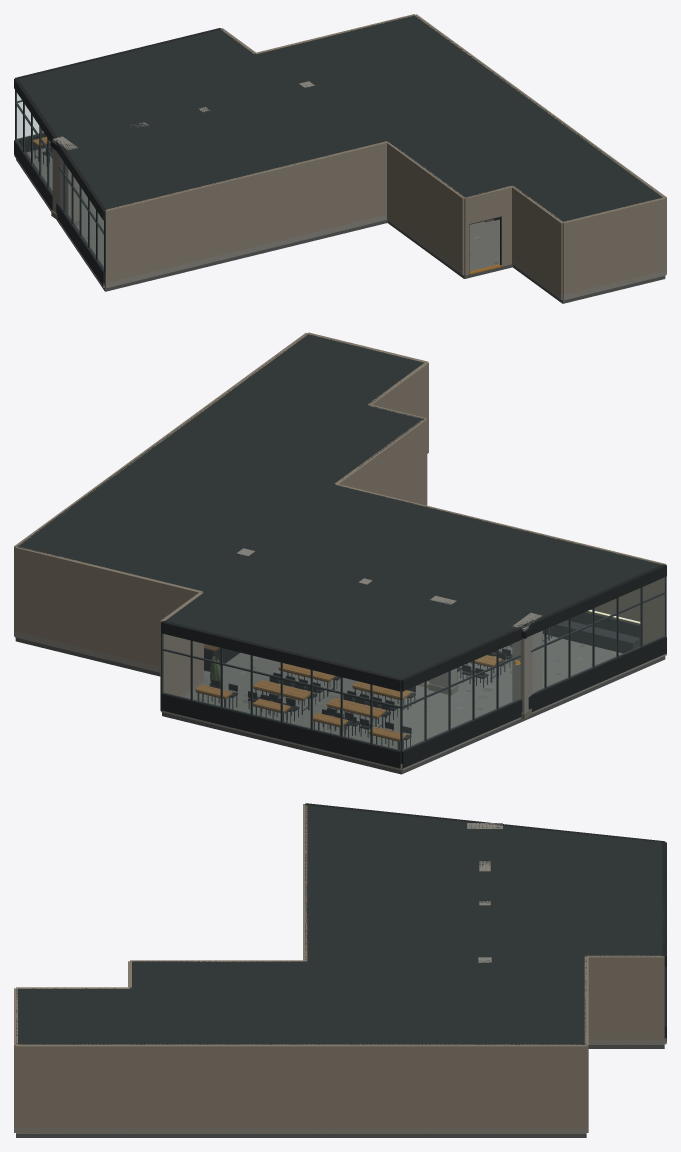
File: MEGASPOT_2F.glb
3 renders of one model, top to bottom at view 1: azimuth 30°, elevation 25°; view 2: azimuth 150°, elevation 25°; view 3: azimuth 270°, elevation 25°, orthographic. The views are drawn at different scales.
Visible parts, largest first — view 1: ceiling / surface, wallsFull / wall, floor / surface (×2), wallsFull / dark, wallBase / concrete, wallsFull / glass, wallsFull / steel, columns / concrete; view 2: ceiling / surface, wallsFull / wall, wallsFull / glass, wallsFull / dark, floor / surface (×3), wallsFull / steel, furniture / wood, columns / concrete, furniture / chair, furniture / leather, wallBase / concrete, furniture / steel (+1 smaller); view 3: ceiling / surface, wallsFull / wall, wallBase / concrete, floor / surface, wallsFull / dark.
Part boxes in pixels (x1,y1,x2,y2): ceiling / surface: (18, 15, 662, 222); wallsFull / wall: (104, 14, 666, 299); floor / surface (×2): (16, 149, 665, 303); wallsFull / dark: (14, 28, 221, 286); wallBase / concrete: (14, 146, 666, 300); wallsFull / glass: (16, 92, 103, 269); wallsFull / steel: (15, 90, 105, 273); columns / concrete: (52, 81, 314, 220); ceiling / surface: (17, 333, 661, 679); wallsFull / wall: (14, 332, 666, 706); wallsFull / glass: (163, 578, 663, 749); wallsFull / dark: (161, 564, 666, 768); floor / surface (×3): (15, 634, 665, 774); wallsFull / steel: (161, 576, 666, 752); furniture / wood: (195, 644, 512, 740); columns / concrete: (237, 548, 542, 712); furniture / chair: (211, 626, 553, 740); furniture / leather: (543, 611, 640, 653); wallBase / concrete: (14, 447, 666, 770); furniture / steel: (197, 627, 551, 749); ceiling / surface: (16, 804, 664, 1045); wallsFull / wall: (14, 804, 664, 1133); wallBase / concrete: (14, 1038, 666, 1133); floor / surface: (16, 1045, 664, 1137); wallsFull / dark: (305, 803, 666, 1041).
Bounding box in the file's own units: 25.52 × 4.53 × 28.98.
